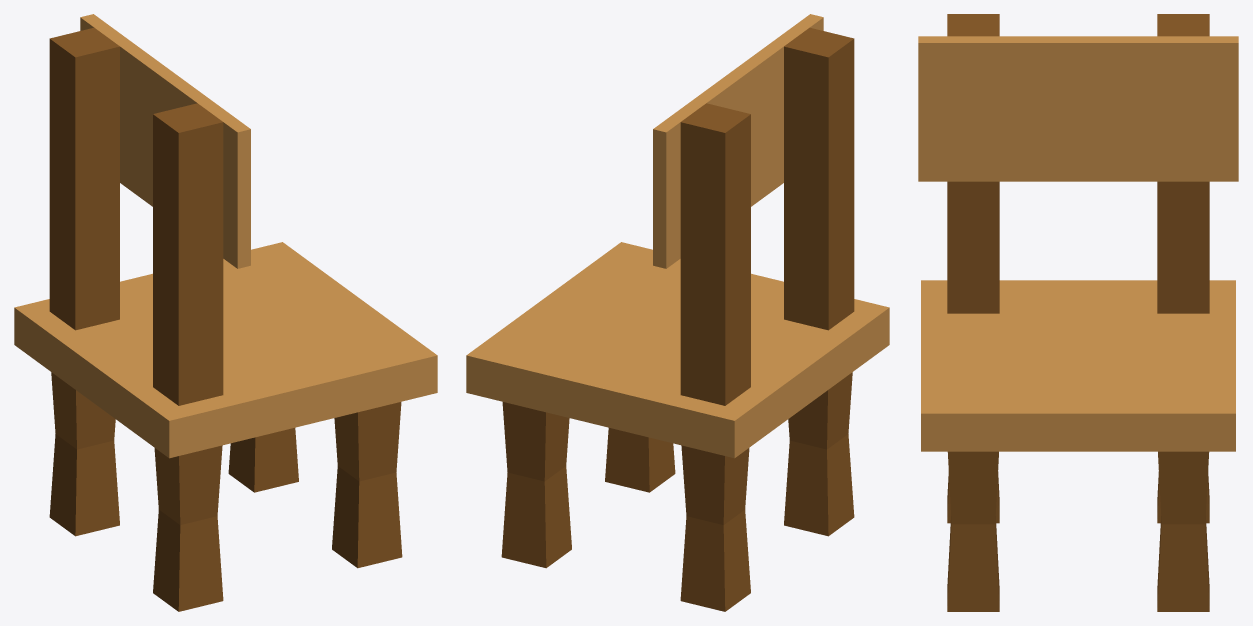
File: Chair.fbx
3 views of the same model, side by side, from view 1: azimuth 30°, elevation 25°; view 2: azimuth 150°, elevation 25°; view 3: azimuth 270°, elevation 25° (orthographic).
Parts seen in each view (by area): view 1: Chair; view 2: Chair; view 3: Chair.
Boxes of the visible parts, x1,y1,x2,y2 form: Chair: [14, 14, 437, 611]; Chair: [466, 14, 889, 611]; Chair: [918, 14, 1238, 611].
Size of the model in its own units: 60 by 102 by 60.94.
